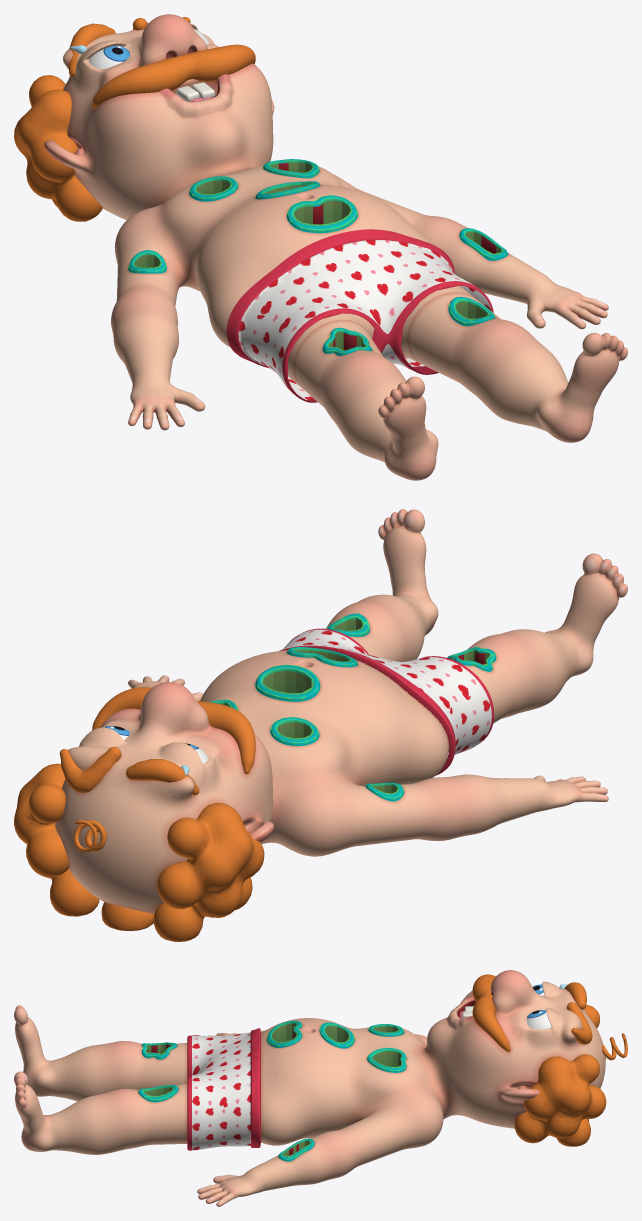
Rendered from Patient_VR_Final.fbx.
3 renders of one model, top to bottom at view 1: azimuth 30°, elevation 25°; view 2: azimuth 150°, elevation 25°; view 3: azimuth 270°, elevation 25°, orthographic. The views are drawn at different scales.
Parts seen in each view (by area): view 1: Head, Shorts, Body, Leg_L, Leg_R, Arm_R, Hair, Foot_L, Foot_R, Arm_L, Moustache, Hand_R (+12 smaller); view 2: Head, Body, Hair, Arm_R, Shorts, Leg_R, Foot_R, Leg_L, Foot_L, Moustache, Eyebrows, Cavity_03_UpperAbdomen (+8 smaller); view 3: Body, Head, Shorts, Arm_L, Leg_L, Hair, Leg_R, Foot_L, Foot_R, Hand_L, Moustache, Eyebrows (+11 smaller).
Part boxes in pixels (x1,y1,x2,y2): Head: (44, 14, 274, 220); Shorts: (226, 229, 493, 402); Body: (131, 142, 471, 385); Leg_L: (405, 291, 568, 427); Leg_R: (292, 318, 406, 461); Arm_R: (111, 216, 178, 382); Hair: (14, 75, 102, 221); Foot_L: (530, 332, 627, 442); Foot_R: (377, 376, 438, 480); Arm_L: (333, 174, 537, 302); Moustache: (91, 44, 255, 108); Hand_R: (128, 365, 205, 430); Head: (55, 682, 274, 913); Body: (200, 650, 449, 856); Hair: (14, 763, 264, 941); Arm_R: (310, 774, 541, 855); Shorts: (279, 628, 494, 775); Leg_R: (452, 629, 573, 723); Foot_R: (545, 553, 627, 678); Leg_L: (326, 594, 426, 661); Foot_L: (378, 509, 438, 635); Moustache: (92, 687, 255, 774); Eyebrows: (59, 747, 199, 795); Cavity_03_UpperAbdomen: (255, 665, 320, 701); Body: (261, 1018, 457, 1145); Head: (428, 970, 605, 1128); Shorts: (187, 1028, 260, 1150); Arm_L: (255, 1101, 440, 1190); Leg_L: (57, 1083, 187, 1154); Hair: (514, 1005, 606, 1146); Leg_R: (56, 1041, 187, 1101); Foot_L: (14, 1071, 63, 1151); Foot_R: (14, 1005, 60, 1097); Hand_L: (197, 1167, 265, 1206); Moustache: (472, 974, 510, 1051); Eyebrows: (564, 982, 592, 1044).
Size of the model in its own units: 1.25 by 0.5197 by 1.9.
15 materials, 3 textured.
